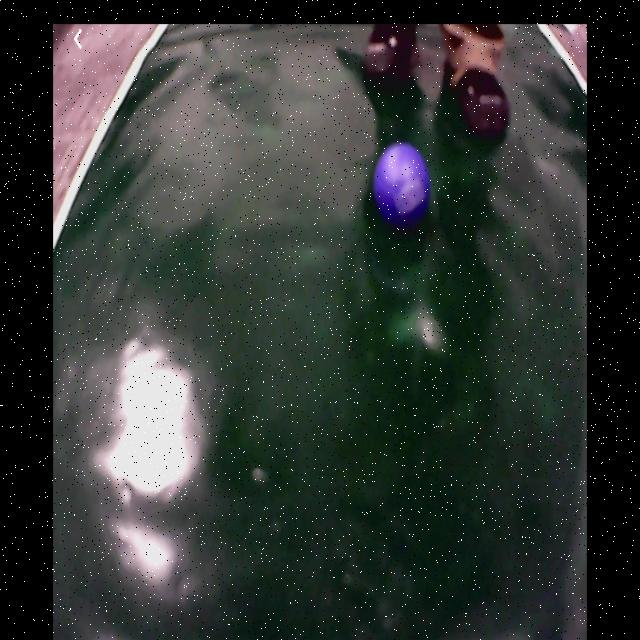ball: (376, 140, 430, 230)
